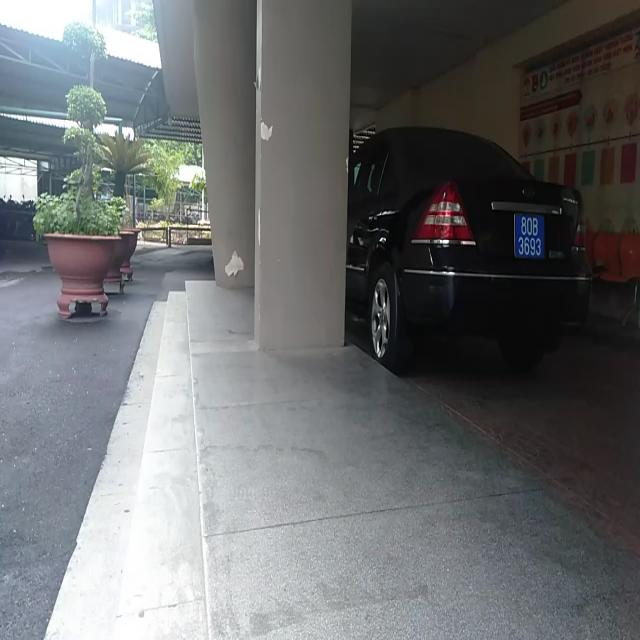bien_xanh: (510, 211, 550, 264)
